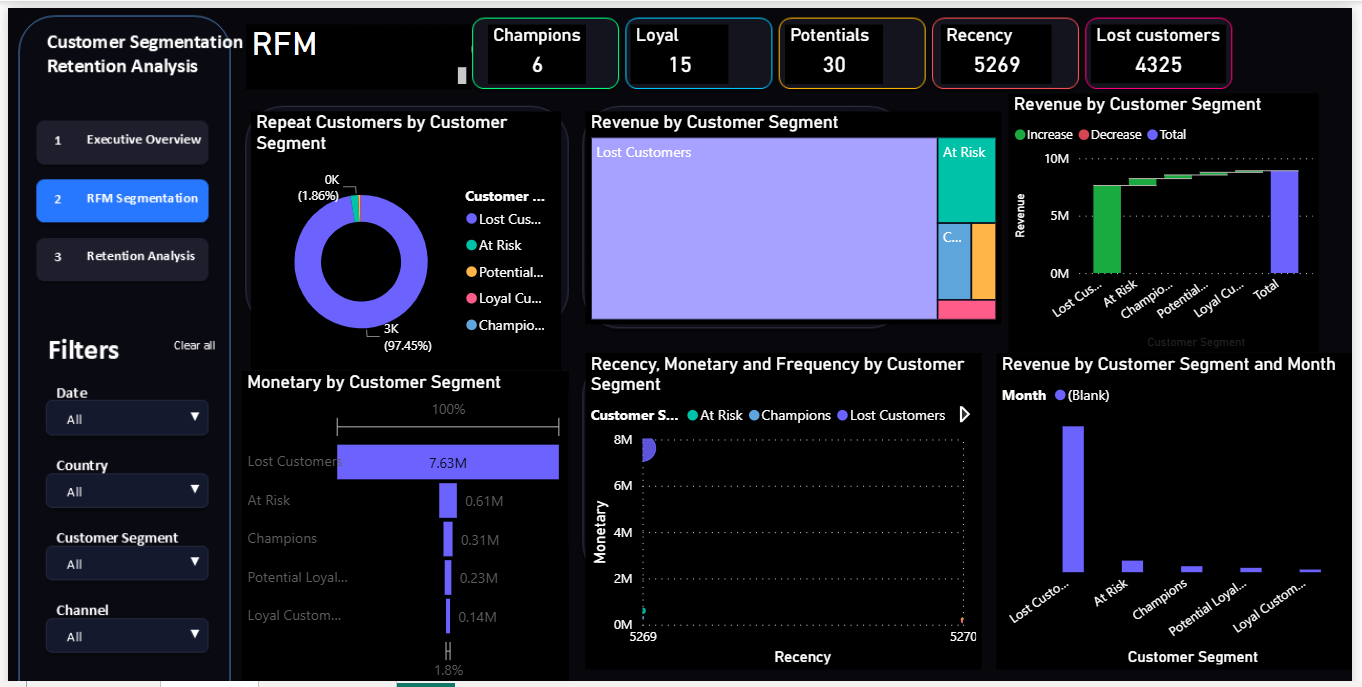

This screenshot's page, from the dashboard's own definition file:
{"tool":"powerbi","page":{"name":"RFM","canvas":[1280,720],"ordinal":1},"visuals":[{"type":"card","title":"Recency","fields":{"Values":["Year 2010-2011.Recency"]},"box":[888.3,15,105,56.7],"z":0},{"type":"card","title":"Lost customers","fields":{"Values":["Year 2010-2011.Lost Customers"]},"box":[1031.4,15.7,128.6,55.7],"z":1000},{"type":"card","title":"Champions","fields":{"Values":["Year 2010-2011.Champions"]},"box":[456.7,15,93.3,56.7],"z":2000},{"type":"card","title":"Loyal","fields":{"Values":["Year 2010-2011.Loyal Customers"]},"box":[593.3,15,93.3,56.7],"z":3000},{"type":"card","title":"Potentials","fields":{"Values":["Year 2010-2011.Potential Loyalists"]},"box":[740,15,93.3,56.7],"z":4000},{"type":"donutChart","fields":{"Category":["Year 2010-2011.Customer Segment"],"Y":["Year 2010-2011.Repeat Customers"]},"box":[231.7,98.3,295,246.7],"z":5000},{"type":"funnel","fields":{"Category":["Year 2010-2011.Customer Segment"],"Y":["Year 2010-2011.Monetary"]},"box":[222.9,345.7,311.4,300],"z":6000},{"type":"scatterChart","fields":{"X":["Year 2010-2011.Recency"],"Y":["Year 2010-2011.Monetary"],"Size":["Year 2010-2011.Frequency"],"Series":["Year 2010-2011.Customer Segment"]},"box":[550,328.6,377.1,301.4],"z":7000},{"type":"treemap","fields":{"Group":["Year 2010-2011.Customer Segment"],"Values":["Year 2010-2011.Revenue"]},"box":[550,98.6,395.7,202.9],"z":8000},{"type":"ribbonChart","fields":{"Series":["Year 2010-2011.Month"],"Category":["Year 2010-2011.Customer Segment"],"Y":["Year 2010-2011.Revenue"]},"box":[941.4,328.6,338.6,301.4],"z":9000},{"type":"waterfallChart","fields":{"Y":["Year 2010-2011.Revenue"],"Category":["Year 2010-2011.Customer Segment"]},"box":[953.3,81.7,295,246.7],"z":10000},{"type":"textbox","title":"RFM","box":[227.1,15.7,214.3,61.4],"z":11000}]}

Visuals, with their boxes on the page's 1280x720 design canvas (x1, y1, x2, y2). These are canvas units, not pixel positions in the 1362x687 screenshot, which may show the page scaled, cropped or inside an application window:
"Recency" card: rect(888, 15, 993, 72)
"Lost customers" card: rect(1031, 16, 1160, 71)
"Champions" card: rect(457, 15, 550, 72)
"Loyal" card: rect(593, 15, 687, 72)
"Potentials" card: rect(740, 15, 833, 72)
donutChart - Year 2010-2011.Customer Segment x Year 2010-2011.Repeat Customers: rect(232, 98, 527, 345)
funnel - Year 2010-2011.Customer Segment x Year 2010-2011.Monetary: rect(223, 346, 534, 646)
scatterChart - Year 2010-2011.Recency x Year 2010-2011.Monetary: rect(550, 329, 927, 630)
treemap - Year 2010-2011.Customer Segment x Year 2010-2011.Revenue: rect(550, 99, 946, 302)
ribbonChart - Year 2010-2011.Month x Year 2010-2011.Customer Segment: rect(941, 329, 1280, 630)
waterfallChart - Year 2010-2011.Revenue x Year 2010-2011.Customer Segment: rect(953, 82, 1248, 328)
"RFM" textbox: rect(227, 16, 441, 77)
